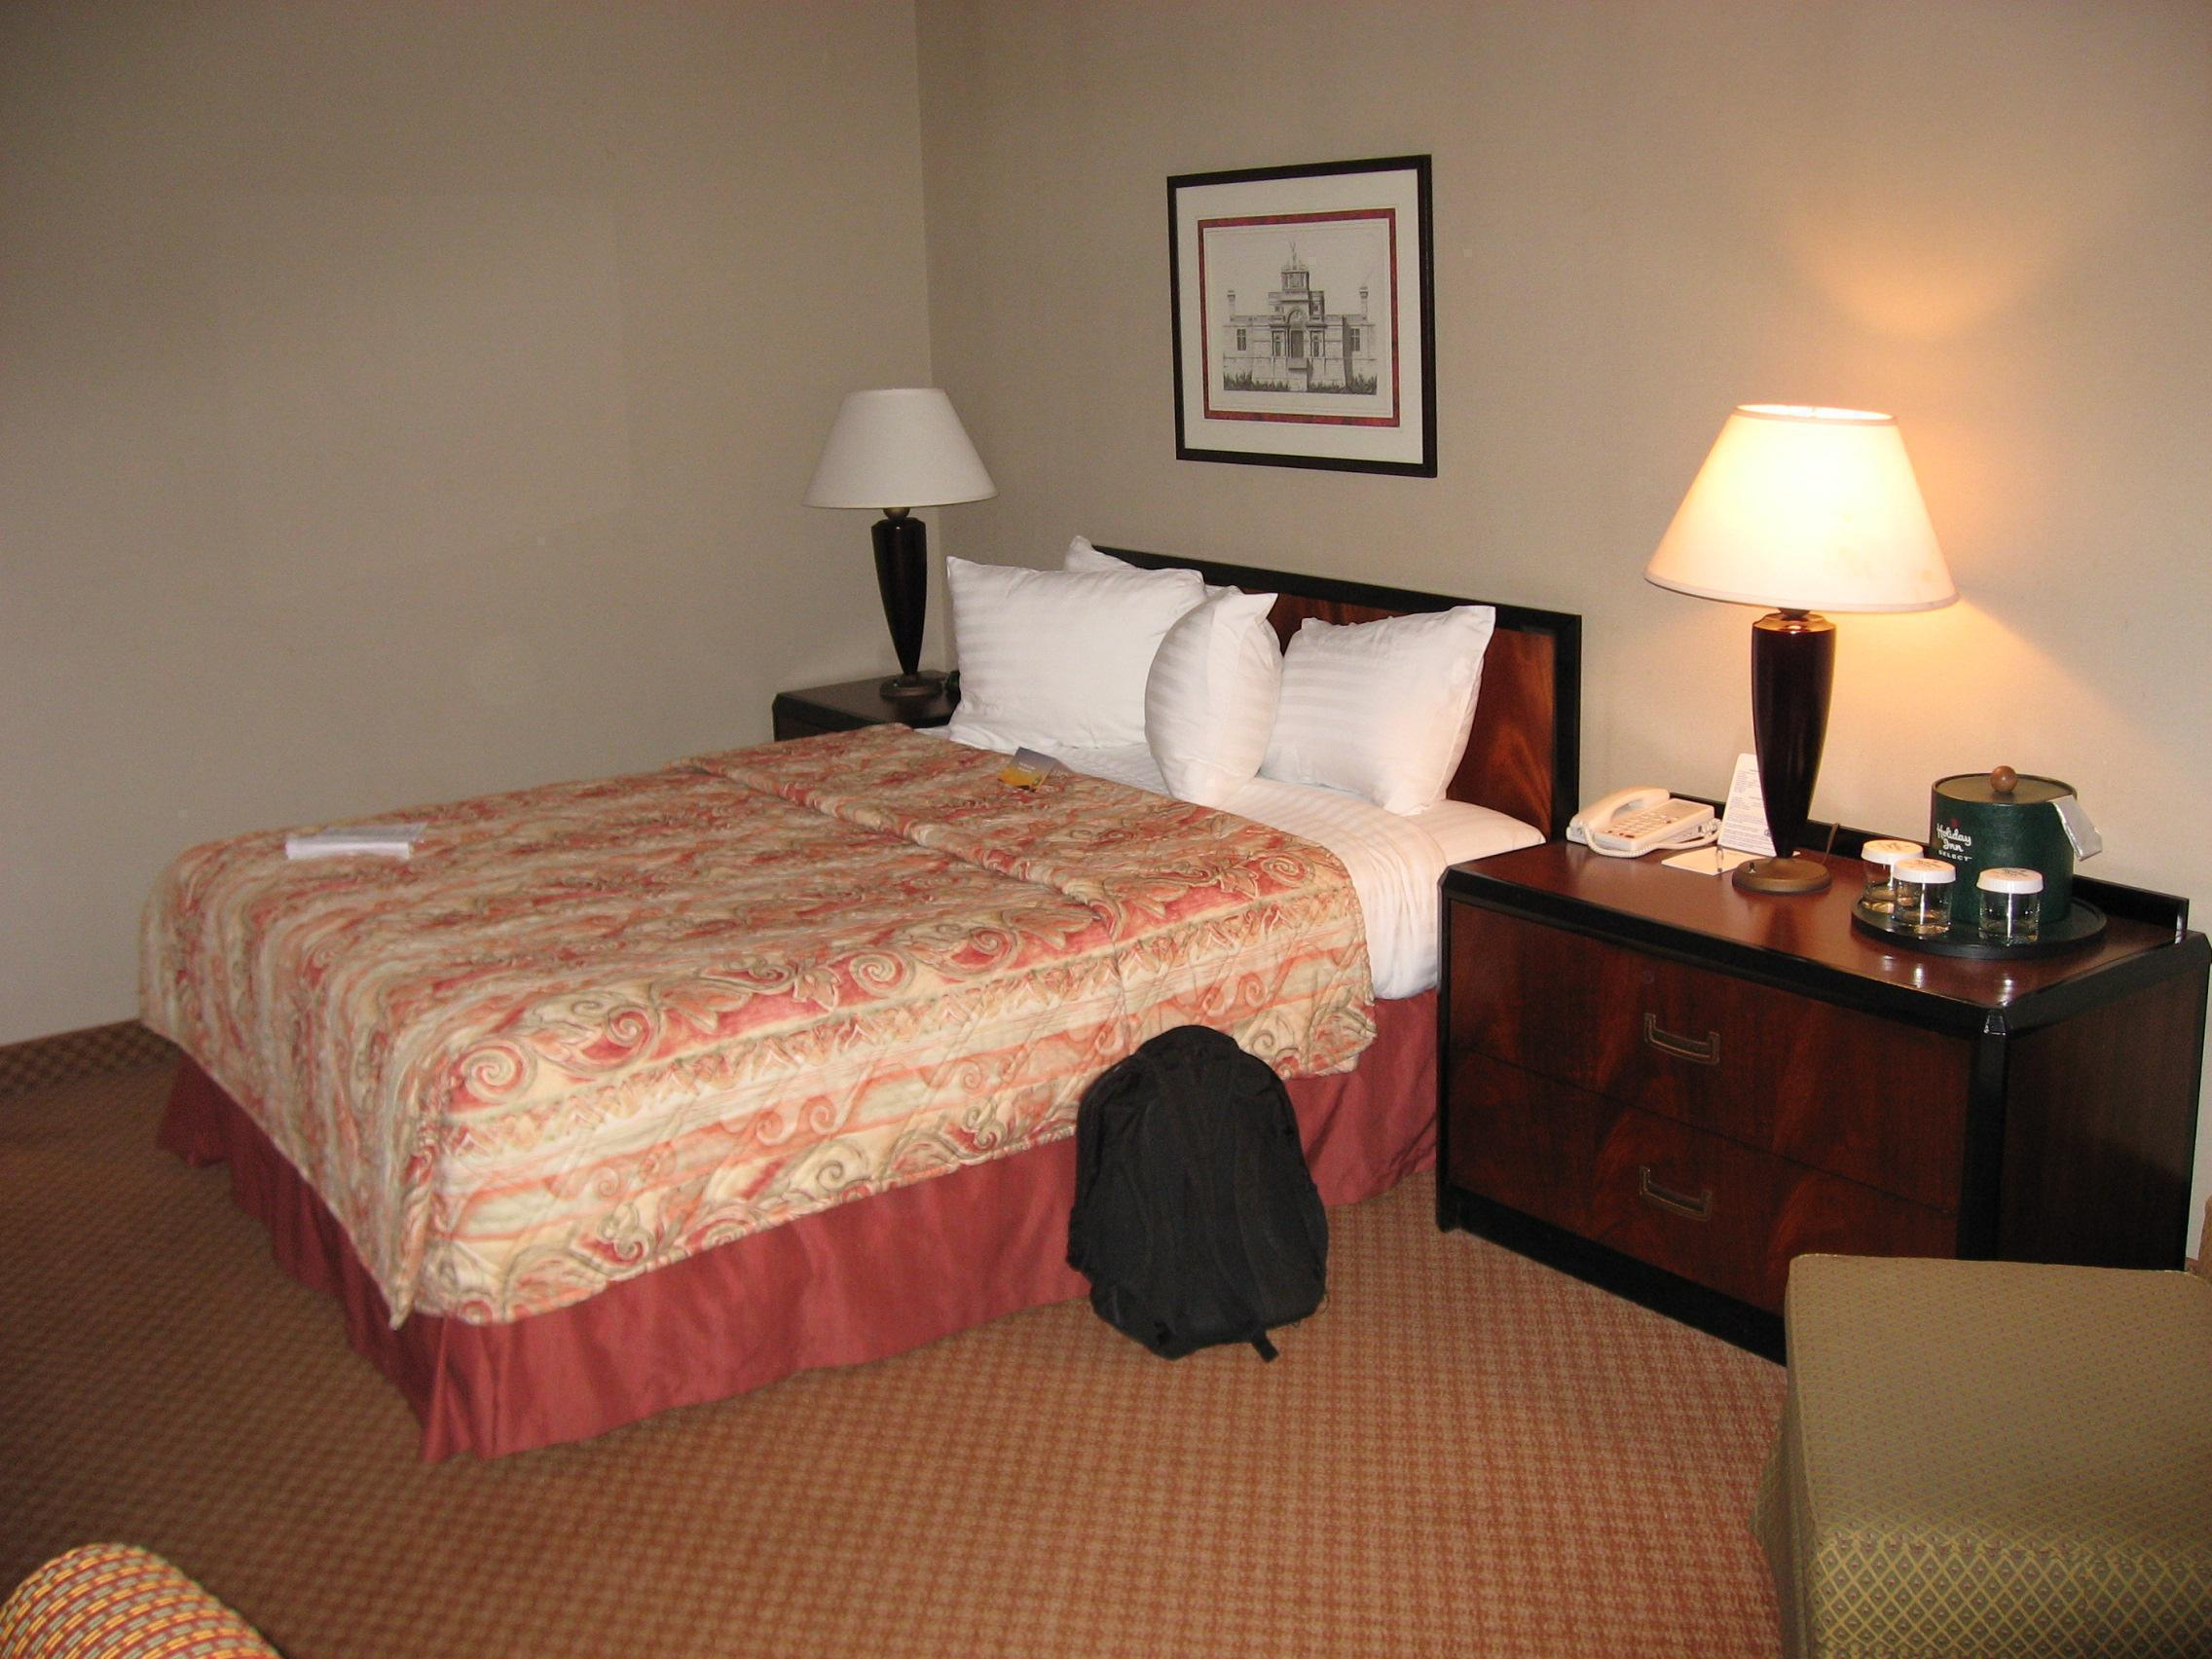Cama: (160, 540, 1606, 1473)
